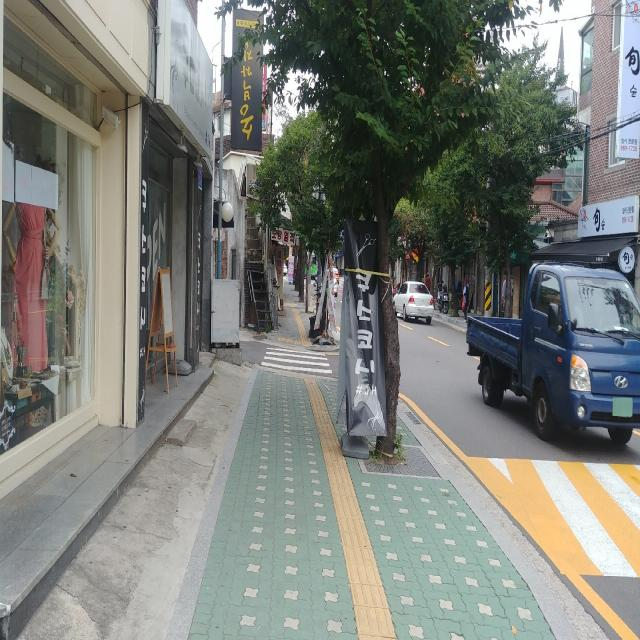횡단보도: (260, 346, 333, 374)
